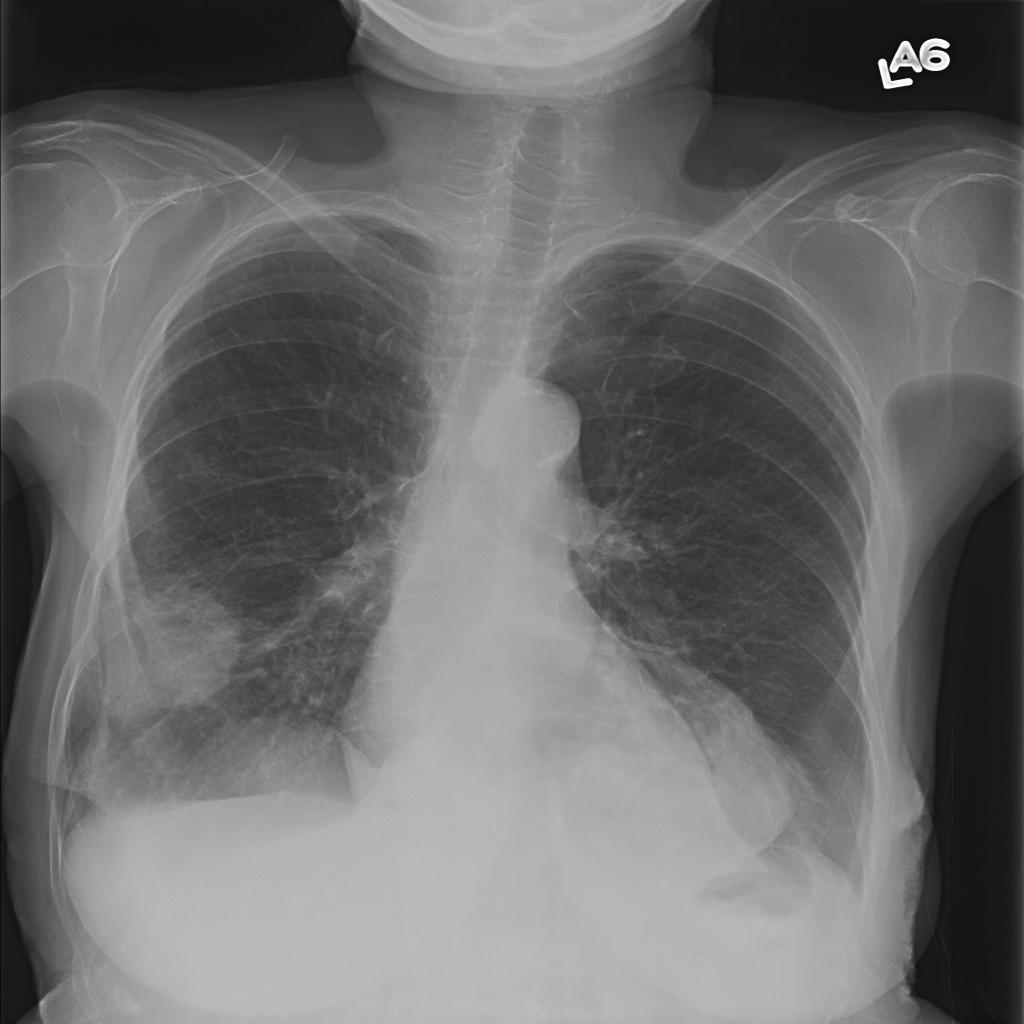Nodule: (350, 177, 408, 245)
